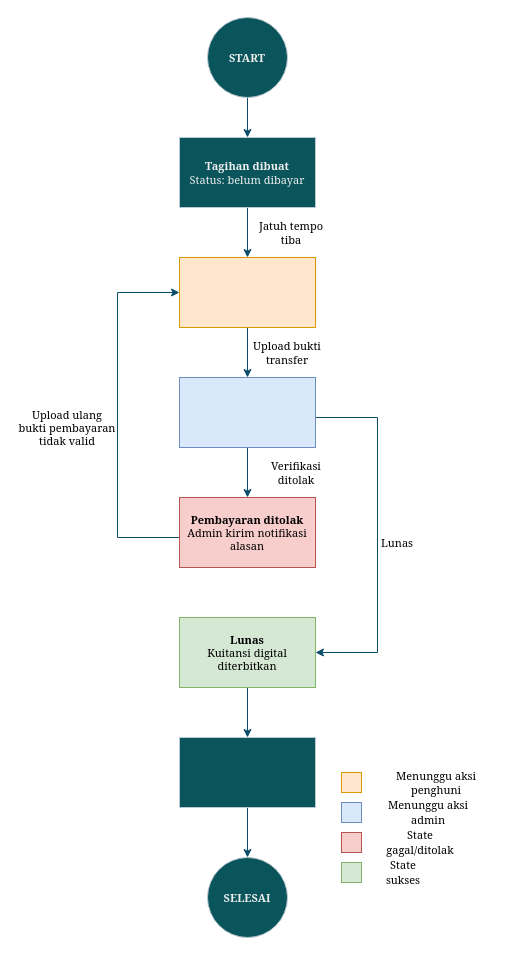
Image size: 516x955. Some labels were removed from this diagram. Here are the shapes that lost their labels. From the top down, the centre of each, then its label:
the point at 247,292: Menunggu pembayaran Notifikasi dikirim ke penghuni
the point at 247,412: Menunnggu verifikasi Admin cek mutasi rekening
the point at 247,772: Riwayat tersimpan Masuk laporan keuangan
